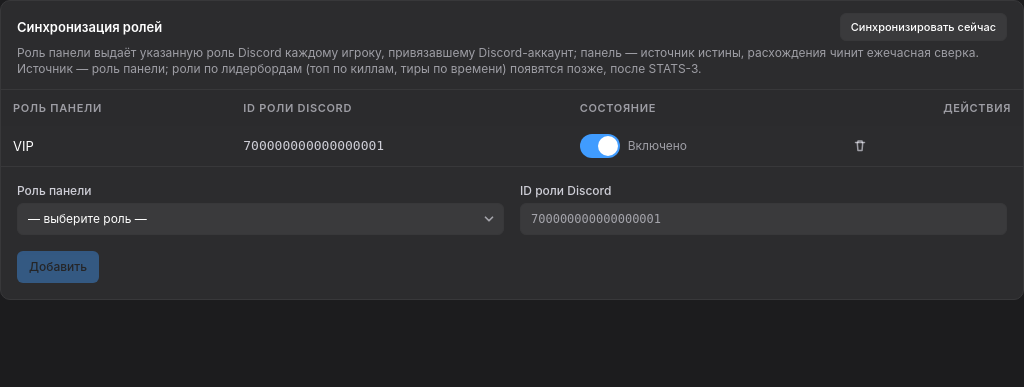
Test: DiscordRoleMappingsSection › requests a reconcile run on demand
The width and height of the screenshot is (1024, 387).
Click the button "Синхронизировать сейчас": (923, 27) [840, 13, 1007, 41]
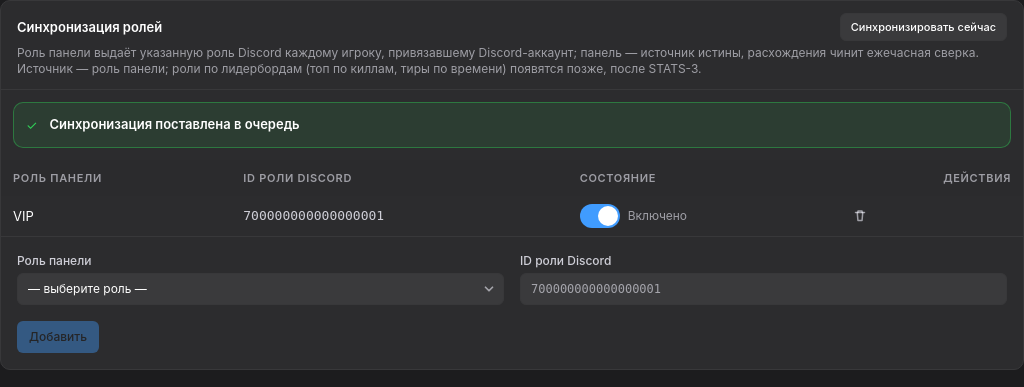
Now the text "Синхронизация поставлена в очередь" is shown, box [50, 116, 300, 132]
